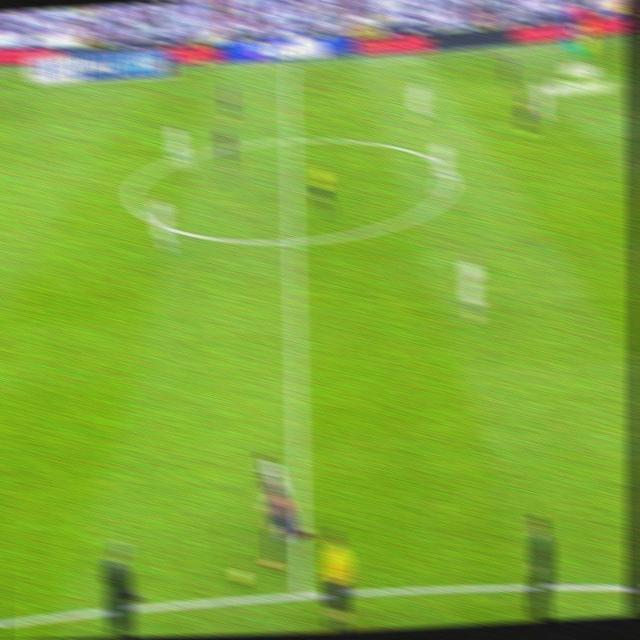halfcircle_bottom: (282, 223, 304, 258)
halfcircle_top: (280, 124, 301, 156)
midline_bottom_intersection: (288, 569, 312, 603)
midline_top_intersection: (280, 58, 298, 78)
